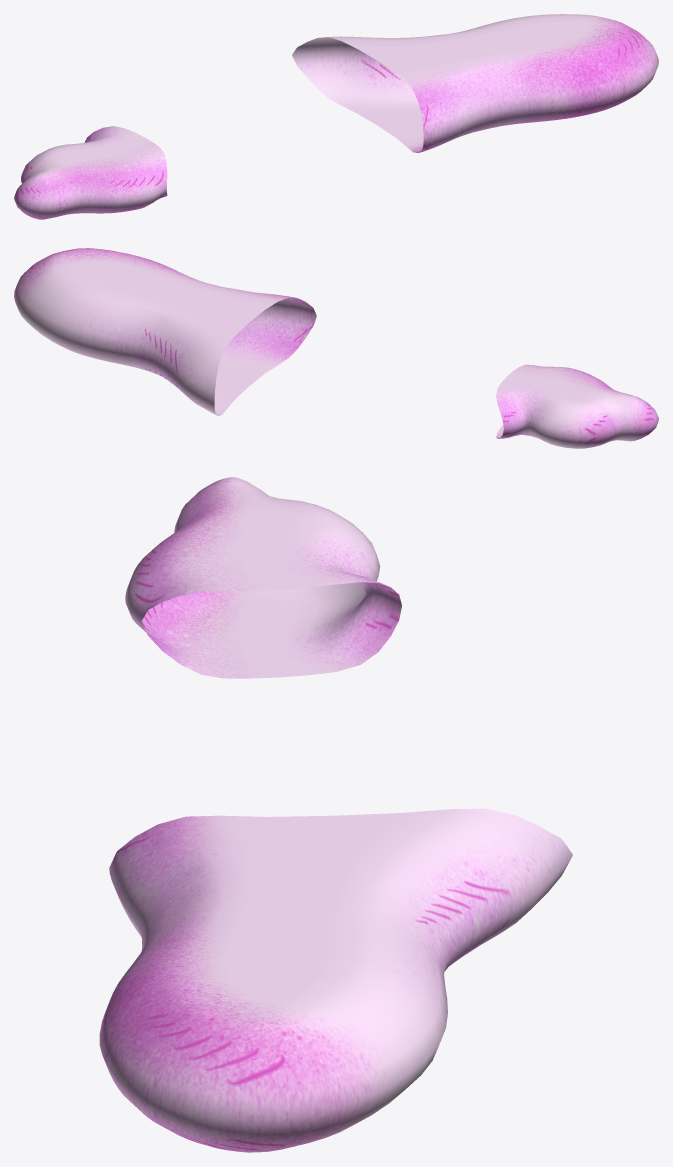
The model's file is Cloud_B_nuki_0_Right.obj.
3 views of the same model, one above another, from view 1: azimuth 30°, elevation 25°; view 2: azimuth 150°, elevation 25°; view 3: azimuth 270°, elevation 25° (orthographic). The views are drawn at different scales.
Visible parts, largest first — view 1: Cloud_B_nuki_0_Right; view 2: Cloud_B_nuki_0_Right; view 3: Cloud_B_nuki_0_Right.
Boxes of the visible parts, x1,y1,x2,y2 form: Cloud_B_nuki_0_Right: (14, 14, 658, 219); Cloud_B_nuki_0_Right: (14, 248, 658, 448); Cloud_B_nuki_0_Right: (99, 477, 572, 1152).
Bounding box in the file's own units: 1.61 × 0.156 × 0.5256.
Materials: 1 (1 with a texture image).
